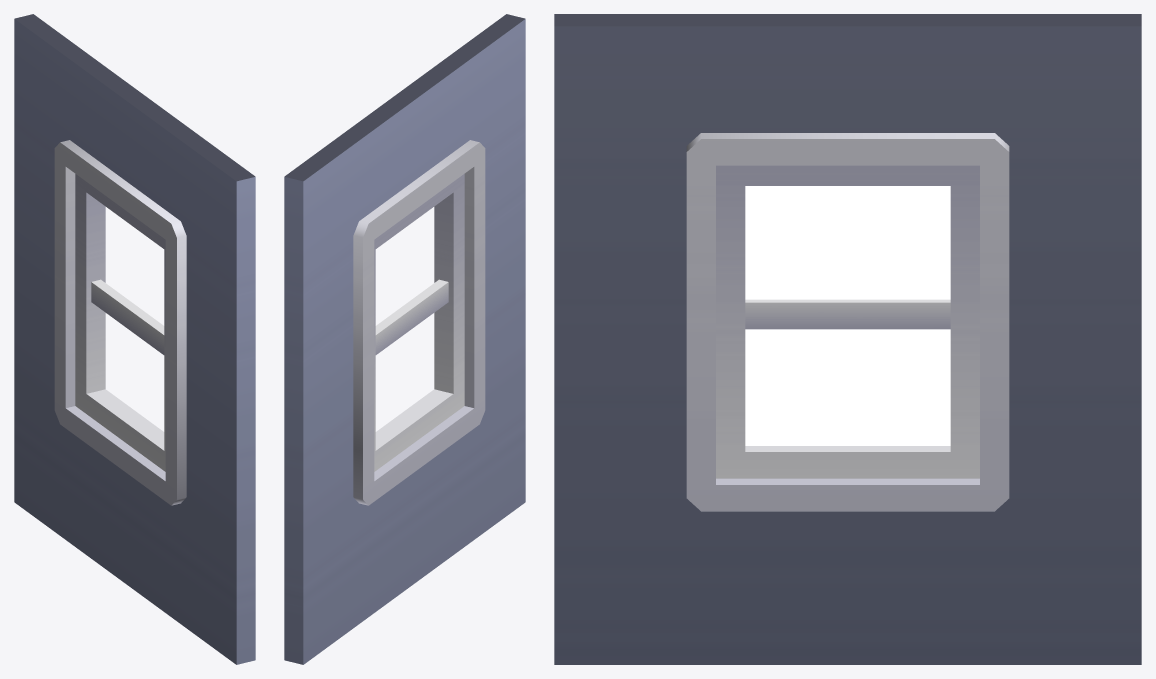
Rendered from Wall Window Square D.glb.
3 renders of one model, left to right at view 1: azimuth 30°, elevation 25°; view 2: azimuth 150°, elevation 25°; view 3: azimuth 270°, elevation 25°, orthographic. The views are drawn at different scales.
Parts seen in each view (by area): view 1: wall-window-square-detailed; view 2: wall-window-square-detailed; view 3: wall-window-square-detailed, (%ignore).
Part boxes in pixels (x1,y1,x2,y2): wall-window-square-detailed: (14,14,255,664); wall-window-square-detailed: (284,14,525,664); wall-window-square-detailed: (554,14,1141,664); (%ignore): (745,186,950,445).
Bounding box in the file's own units: 0.2 × 2.4 × 2.
2 materials, 1 textured.
